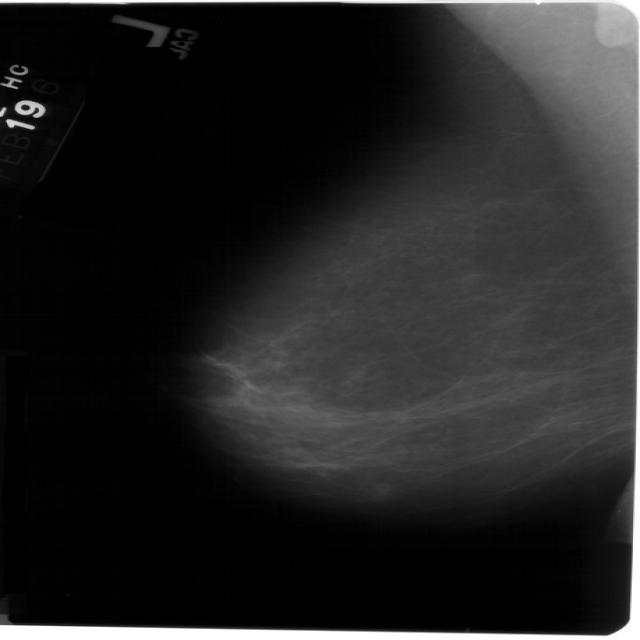tumour: (366, 481, 390, 502)
